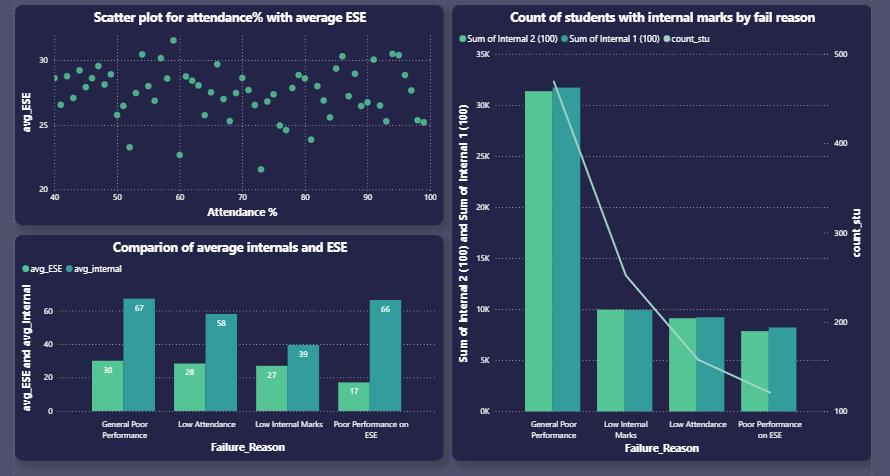

What the dashboard file says about the page in this screenshot:
{"tool":"powerbi","page":{"name":"Page 3","canvas":[1280,720],"ordinal":1},"visuals":[{"type":"scatterChart","title":"Scatter plot for attendance% with average ESE ","fields":{"X":["Sheet1.Attendance %"],"Y":["Sheet1.avg_ESE"]},"box":[0,15.7,640,328.6],"z":0},{"type":"clusteredColumnChart","title":"Comparion of average internals and ESE","fields":{"Category":["Sheet1.Failure_Reason"],"Y":["exam_type.avg_ESE","exam_type.avg_internal"]},"box":[0,360,640,337.1],"z":1000},{"type":"lineClusteredColumnComboChart","title":"Count of students with internal marks by fail reason","fields":{"Category":["Sheet1.Failure_Reason"],"Y":["Sum(exam_type.Internal 2 (100))","Sum(exam_type.Internal 1 (100))"],"Y2":["exam_type.count_stu"]},"box":[652.9,15.7,627.1,681.4],"z":2001}]}

Visuals, with their boxes on the page's 1280x720 design canvas (x1, y1, x2, y2). These are canvas units, not pixel positions in the 890x476 screenshot, which may show the page scaled, cropped or inside an application window:
"Scatter plot for attendance% with average ESE " scatterChart: [x1=0, y1=16, x2=640, y2=344]
"Comparion of average internals and ESE" clusteredColumnChart: [x1=0, y1=360, x2=640, y2=697]
"Count of students with internal marks by fail reason" lineClusteredColumnComboChart: [x1=653, y1=16, x2=1280, y2=697]
